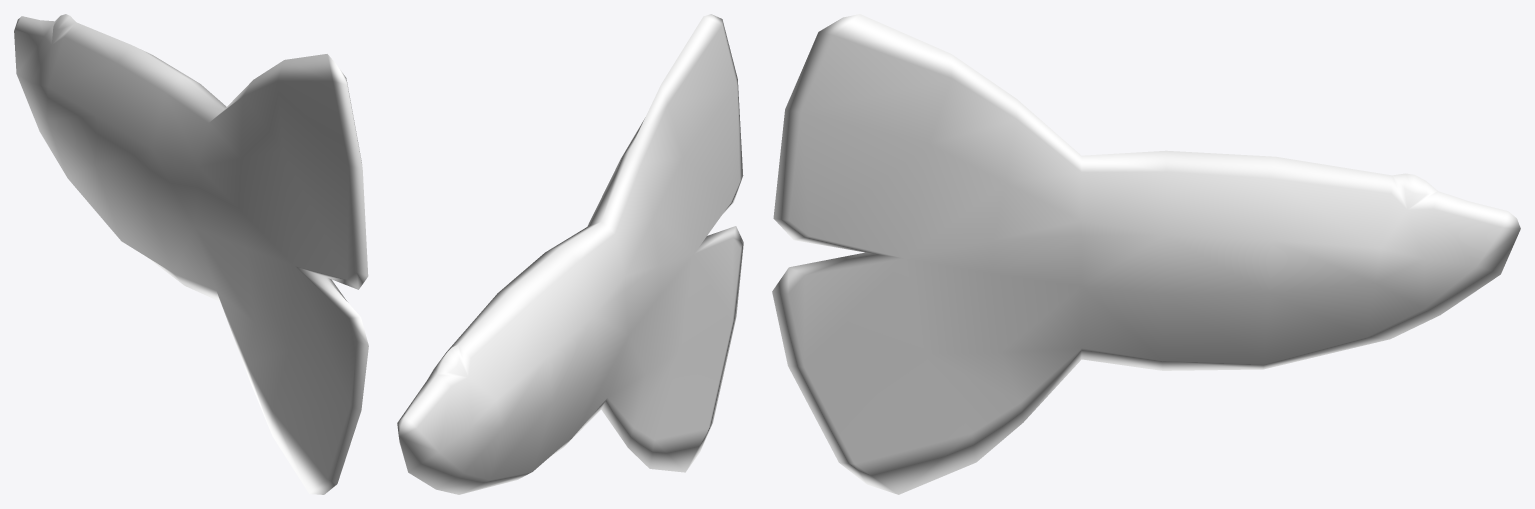
File: FishE.glb
The picture shows the model from 3 angles, left to right: view 1: azimuth 30°, elevation 25°; view 2: azimuth 150°, elevation 25°; view 3: azimuth 270°, elevation 25°; orthographic projection. The views are drawn at different scales.
Parts seen in each view (by area): view 1: FishE; view 2: FishE; view 3: FishE.
Boxes of the visible parts, x1=… form: FishE: x1=14, y1=14, x2=368, y2=494; FishE: x1=397, y1=14, x2=743, y2=494; FishE: x1=772, y1=14, x2=1520, y2=494.
Bounding box in the file's own units: 2.29 × 12.88 × 18.17.
1 material, 1 textured.
